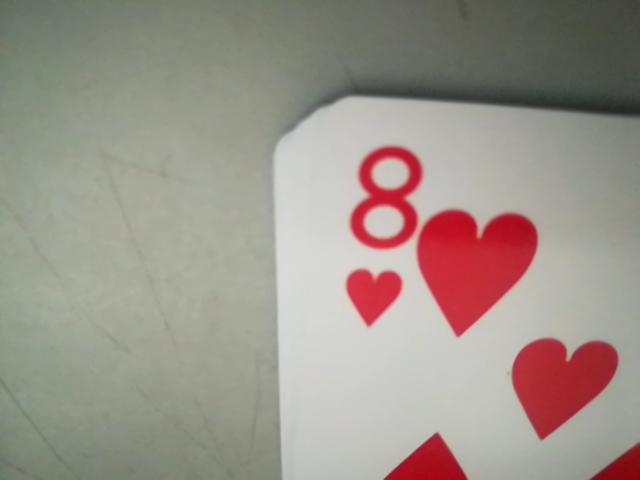hx 8: (343, 139, 420, 331)
